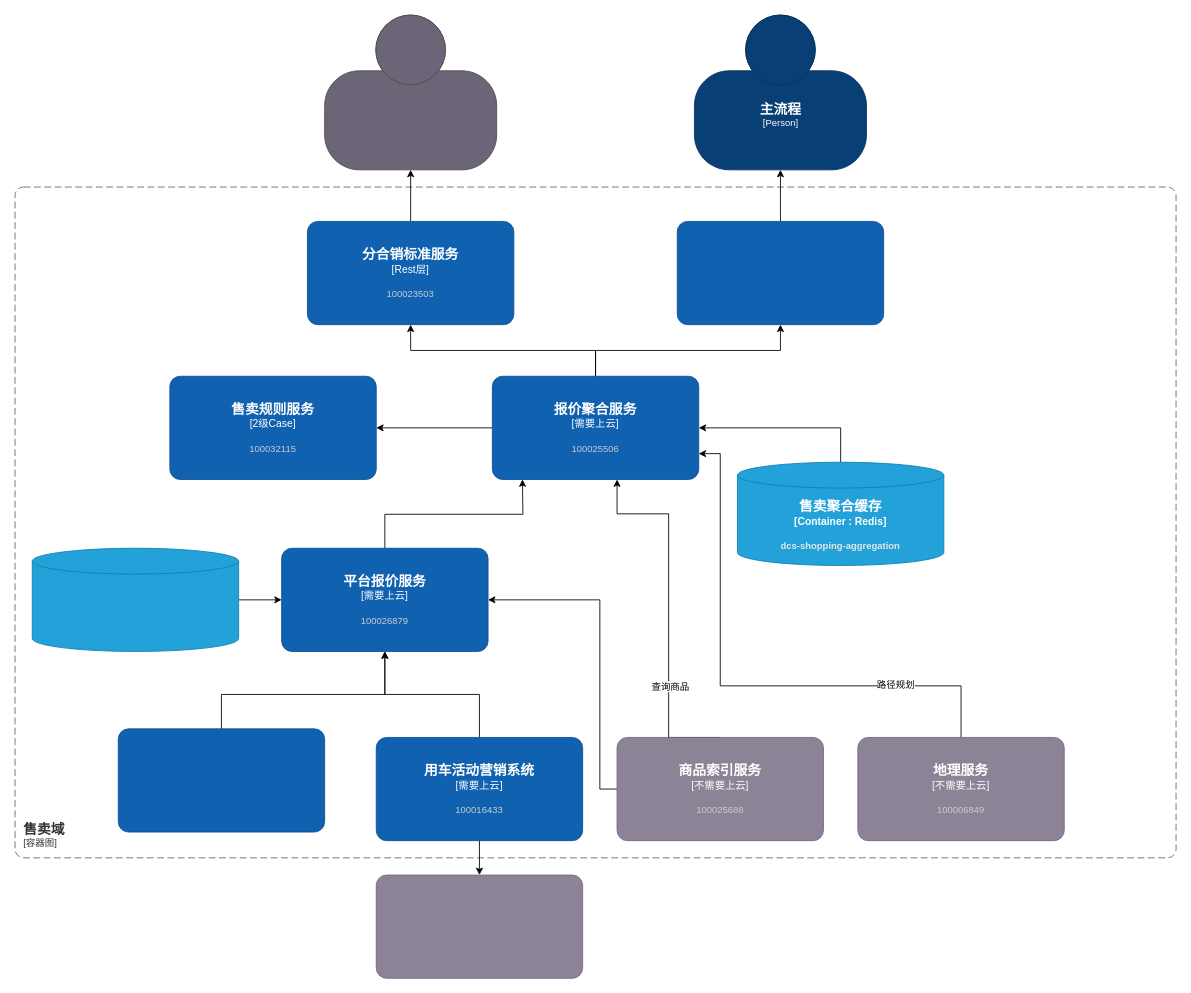
Image size: 1191x993. Some labels were removed from this diagram. The shapes that lost their labels are listed below. From the top down, each one's centre as x and y in pixels, then its label:
pixel 410 92: 分销&合销 [Person]
pixel 780 273: 报价聚合Rest [需要上云] 100011694
pixel 135 599: 起价&报价缓存 [Container : Redis 需要上云] dcs-shopping-basic
pixel 221 780: 用车竞品价格系统 [3级Case] 100028053
pixel 479 926: 两车优惠券系统 [外部系统 需要上云] 100018854
